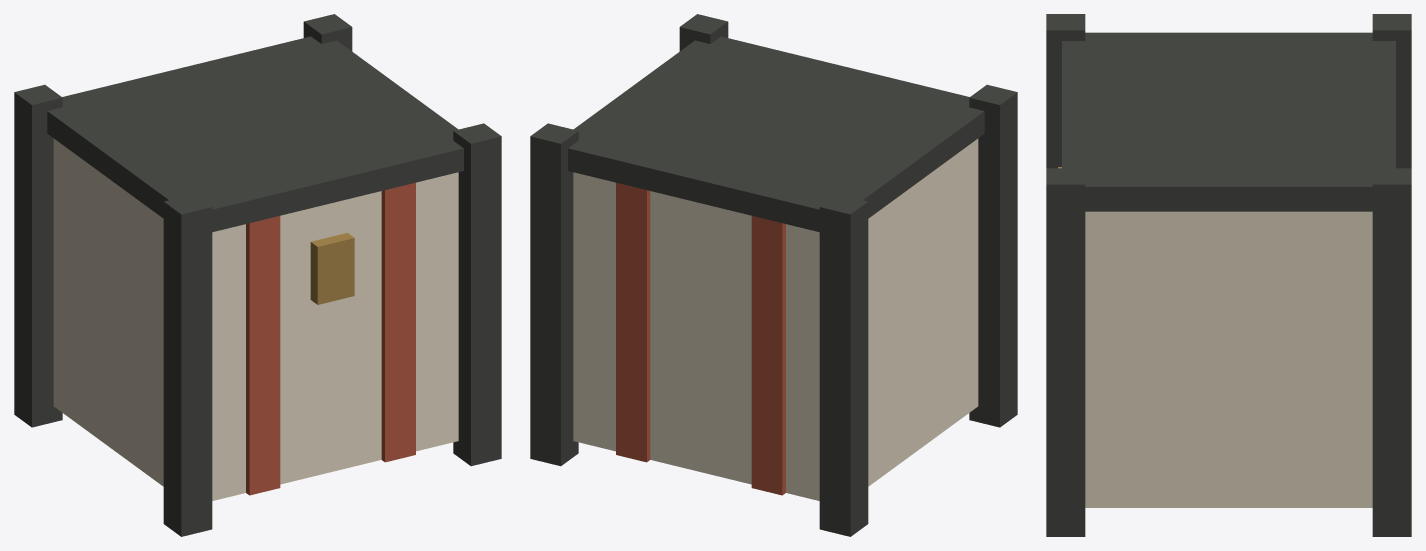
The model's file is chest.glb.
The picture shows the model from 3 angles, left to right: view 1: azimuth 30°, elevation 25°; view 2: azimuth 150°, elevation 25°; view 3: azimuth 270°, elevation 25°; orthographic projection. The views are drawn at different scales.
Visible parts, largest first — view 1: chest; view 2: chest; view 3: chest.
Part boxes in pixels (x1,y1,x2,y2): chest: [14, 14, 501, 536]; chest: [530, 14, 1017, 536]; chest: [1046, 14, 1411, 536].
Bounding box in the file's own units: 1.04 × 1 × 0.94.
